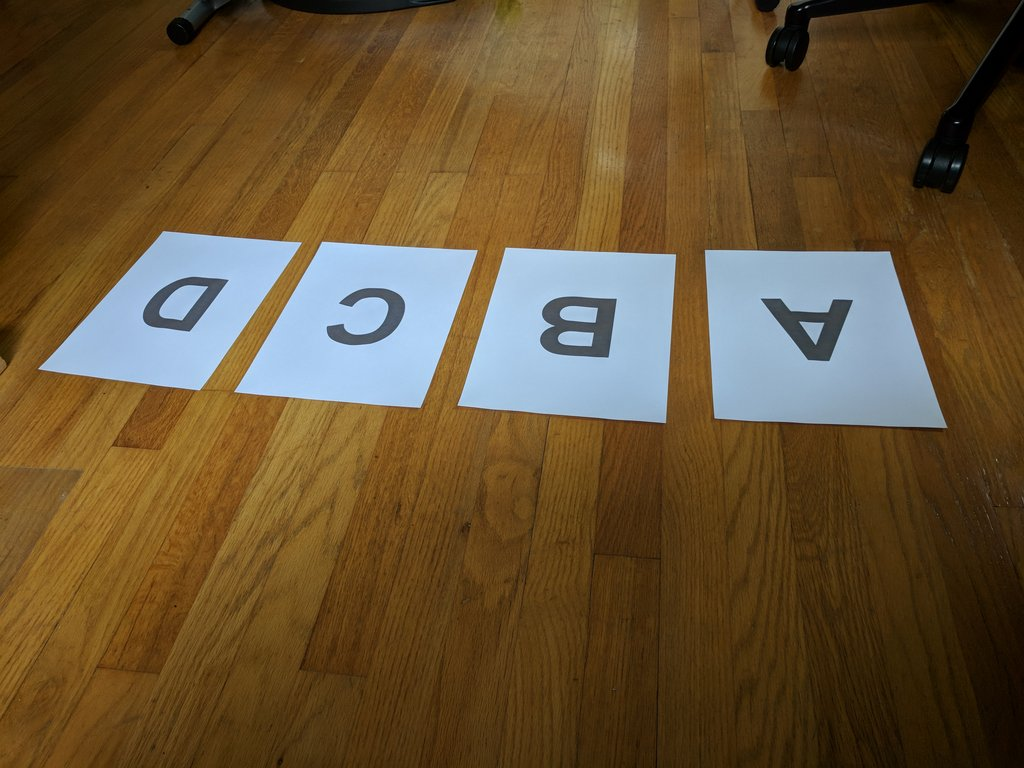home: (326, 288, 406, 344)
